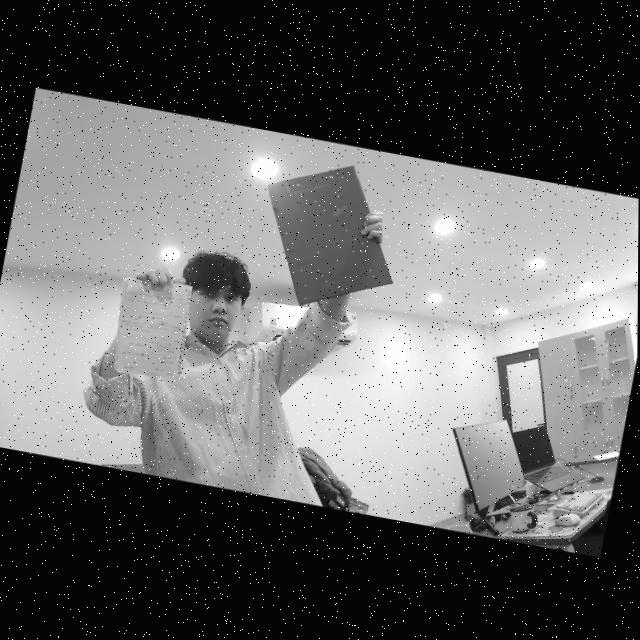document: (113, 277, 192, 377)
face: (180, 249, 253, 348)
